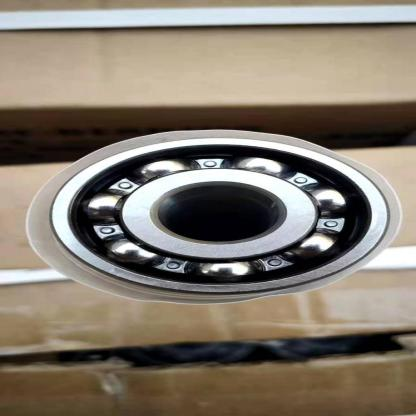FOD: (49, 133, 395, 295)
